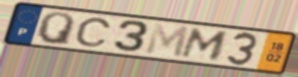3: (113, 19, 153, 54), (225, 31, 260, 67)
C: (73, 17, 114, 48)
M: (143, 22, 192, 60), (179, 27, 232, 62)
Q: (35, 11, 77, 47)
